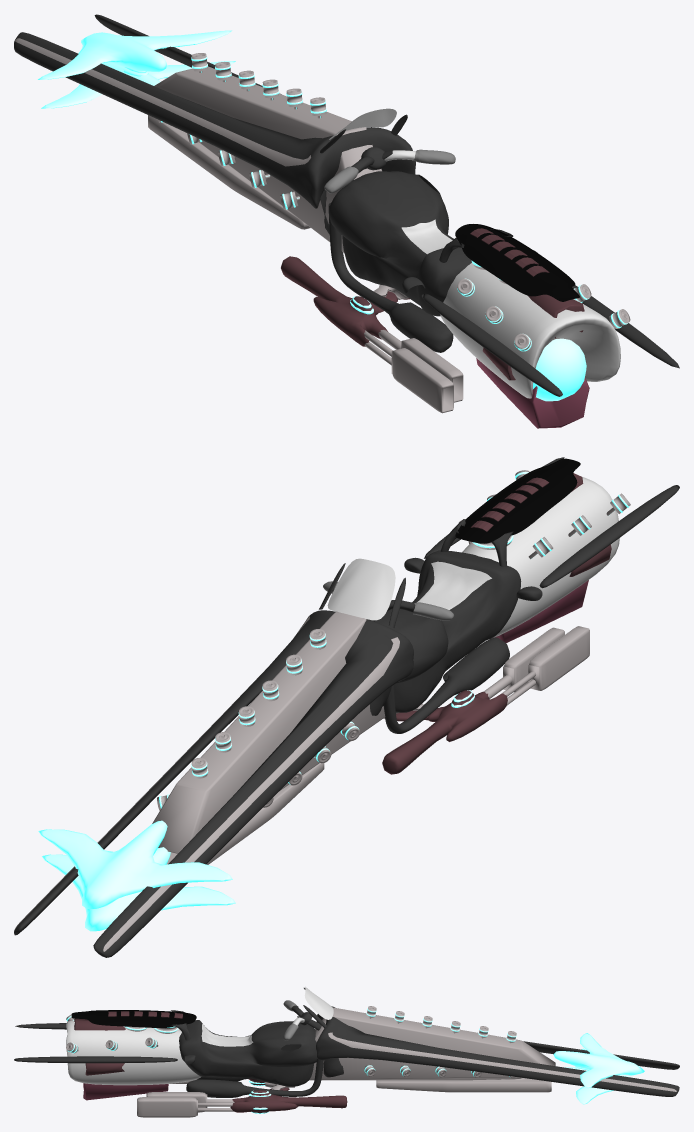
The model's file is swoop_bikeONE.fbx.
3 views of the same model, one above another, from view 1: azimuth 30°, elevation 25°; view 2: azimuth 150°, elevation 25°; view 3: azimuth 270°, elevation 25° (orthographic). The views are drawn at different scales.
Visible parts, largest first — view 1: backpack.001; view 2: backpack.001; view 3: backpack.001.
Boxes of the visible parts, x1,y1,x2,y2 form: backpack.001: (14,14,679,428); backpack.001: (14,457,679,957); backpack.001: (14,986,679,1117).
Bounding box in the file's own units: 371 × 339 × 1861.
